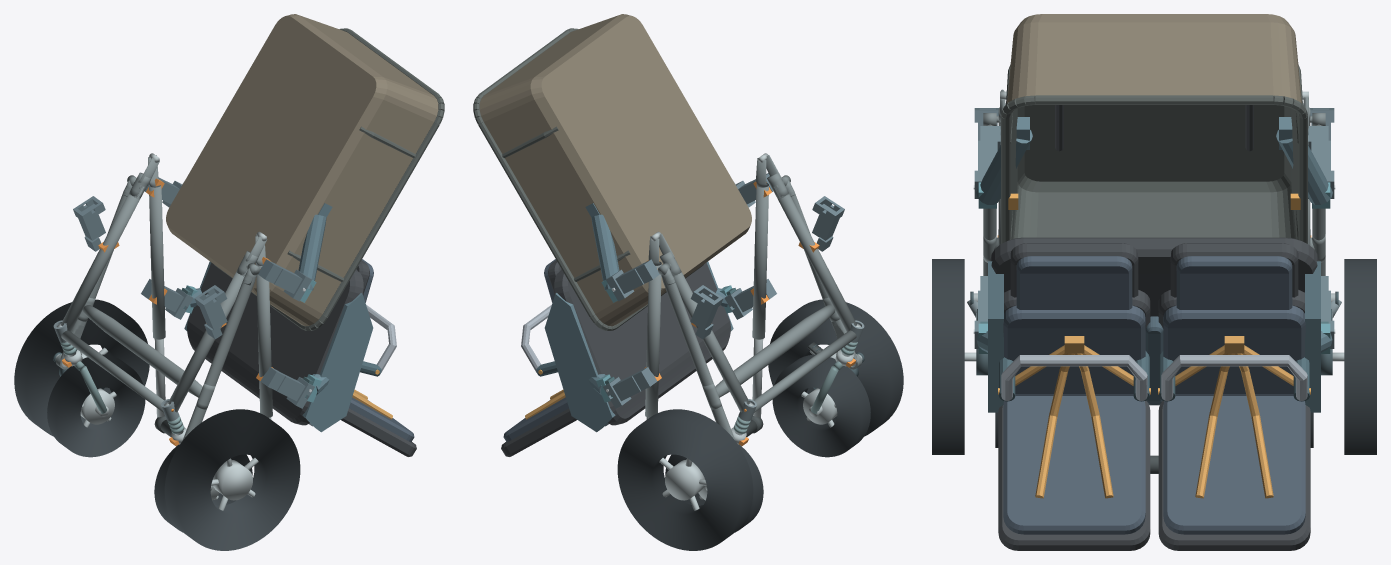
Rendered from D28_w650_state3_wheel_L.glb.
The picture shows the model from 3 angles, left to right: view 1: azimuth 30°, elevation 25°; view 2: azimuth 150°, elevation 25°; view 3: azimuth 270°, elevation 25°; orthographic projection. The views are drawn at different scales.
Parts seen in each view (by area): view 1: D28_Lower, D28_Upper, RL_tire.008, FR_tire.008, RR_tire.008, V46_rearbar.009, main_upper_1.009, main_lower_1.009, V46_rear_leg_-1.009, main_upper_-1.009, main_lower_-1.009, D28_Lower_Mount_M (+11 smaller); view 2: D28_Lower, D28_Upper, RR_tire.008, FL_tire.008, RL_tire.008, V46_rearbar.009, main_upper_-1.009, main_lower_-1.009, V46_rear_leg_1.009, main_upper_1.009, main_lower_1.009, D28_Lower_Mount_M (+11 smaller); view 3: D28_Upper, D28_Lower, RL_tire.008, RR_tire.008, D28_Lower_Mount_M, Universal_Cabin_Receiver_M_-1, Universal_Cabin_Receiver_M_1, D28_Upper_Mount_H, Universal_Cabin_Receiver_H_1, Universal_Cabin_Receiver_H_-1.
Part boxes in pixels (<box>): D28_Lower: <box>166,14,444,330</box>; D28_Upper: <box>184,259,416,456</box>; RL_tire.008: <box>164,409,300,550</box>; FR_tire.008: <box>47,354,145,457</box>; RR_tire.008: <box>14,299,149,436</box>; V46_rearbar.009: <box>82,305,202,397</box>; main_upper_1.009: <box>149,186,165,339</box>; main_lower_1.009: <box>61,186,144,331</box>; V46_rear_leg_-1.009: <box>182,274,255,440</box>; main_upper_-1.009: <box>256,263,272,417</box>; main_lower_-1.009: <box>168,270,247,412</box>; D28_Lower_Mount_M: <box>182,182,332,302</box>; D28_Lower: <box>473,14,751,330</box>; D28_Upper: <box>501,259,733,456</box>; RR_tire.008: <box>617,409,753,550</box>; FL_tire.008: <box>772,354,870,457</box>; RL_tire.008: <box>768,299,903,436</box>; V46_rearbar.009: <box>715,305,835,397</box>; main_upper_-1.009: <box>752,186,768,339</box>; main_lower_-1.009: <box>773,186,856,331</box>; V46_rear_leg_1.009: <box>662,274,735,440</box>; main_upper_1.009: <box>645,263,661,417</box>; main_lower_1.009: <box>670,270,749,412</box>; D28_Lower_Mount_M: <box>585,182,735,302</box>; D28_Upper: <box>988,237,1320,550</box>; D28_Lower: <box>1001,14,1307,243</box>; RL_tire.008: <box>932,259,964,454</box>; RR_tire.008: <box>1344,259,1376,454</box>; D28_Lower_Mount_M: <box>973,117,1335,208</box>; Universal_Cabin_Receiver_M_-1: <box>974,126,1000,198</box>; Universal_Cabin_Receiver_M_1: <box>1308,126,1334,198</box>; D28_Upper_Mount_H: <box>973,321,1335,353</box>; Universal_Cabin_Receiver_H_1: <box>1321,276,1334,348</box>; Universal_Cabin_Receiver_H_-1: <box>974,276,987,348</box>.
Size of the model in its own units: 0.8747 by 1.11 by 0.8171.
